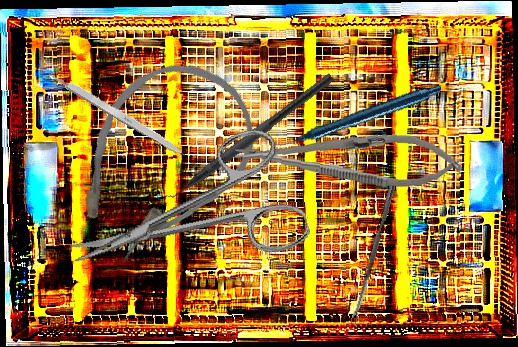Cannula: (38, 34, 282, 287)
Chopper: (149, 61, 335, 214)
Handpiece: (270, 42, 442, 187)
Iris Scissors: (52, 120, 314, 311)
Needle Holder: (233, 125, 464, 191)
Scalpel Handle: (45, 67, 191, 160)
Surgical Spoon: (349, 176, 398, 325)
